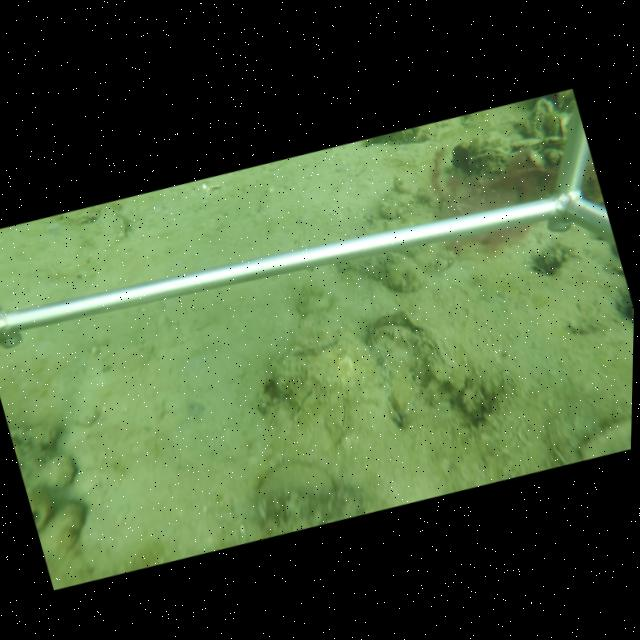Oyster-Closed: (463, 145, 519, 171)
Oyster-Open: (364, 310, 449, 382)
